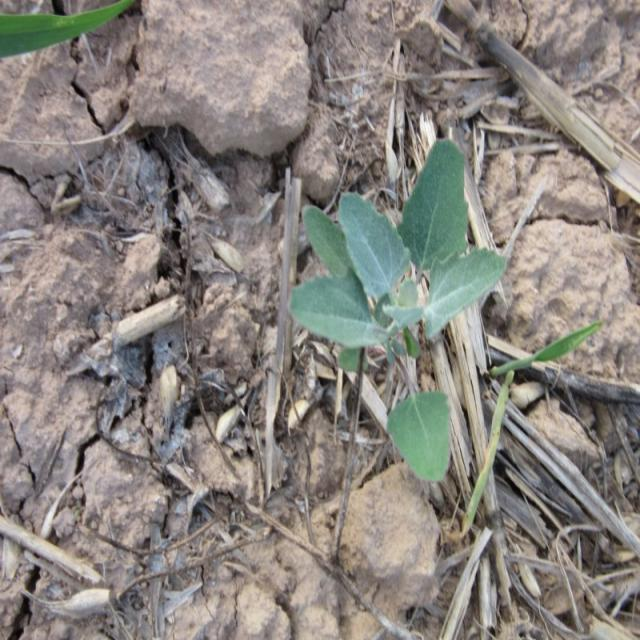ca: (284, 146, 499, 485)
